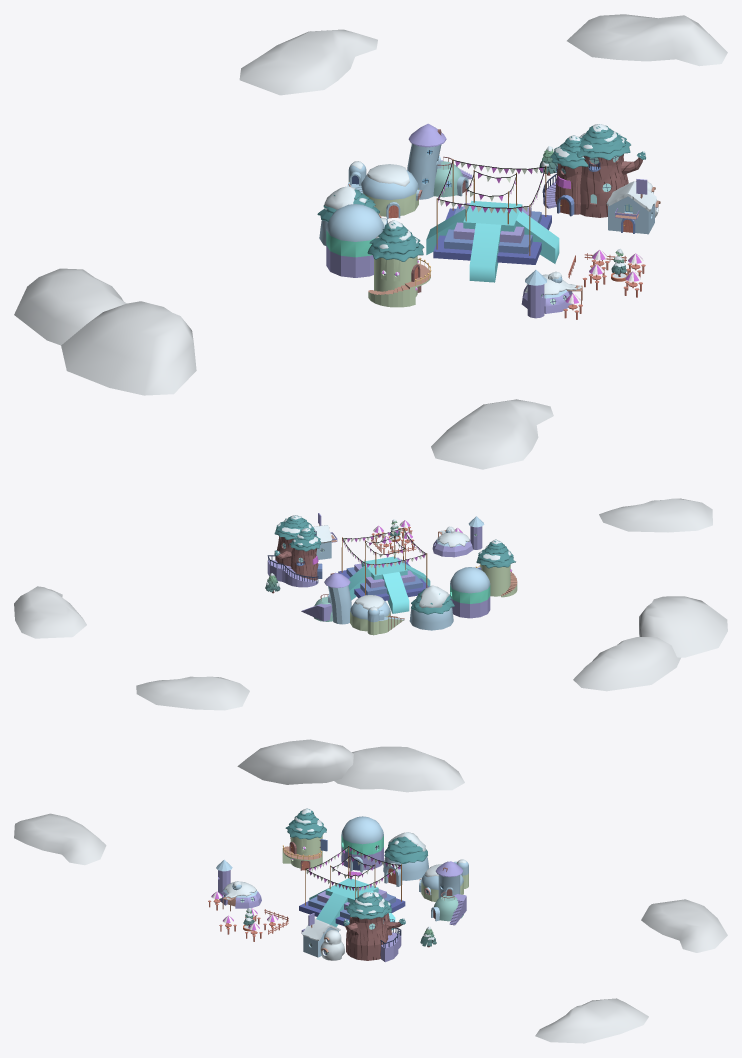
Rendered from Neighborhood_NothingHappeningHereSquare_03.fbx.
3 views of the same model, one above another, from view 1: azimuth 30°, elevation 25°; view 2: azimuth 150°, elevation 25°; view 3: azimuth 270°, elevation 25° (orthographic). The views are drawn at different scales.
Visible parts, largest first — view 1: SnowPatch3, pasted__pasted__Building_Stairs, pasted__polySurface119, SnowPatch6, SnowPatch5, SnowPatch2, SnowPatch4, pasted__polySurface40, pasted__polySurface49, pasted__pCube52, pasted__polySurface51, pasted__polySurface50 (+5 smaller); view 2: SnowPatch3, SnowPatch4, SnowPatch5, SnowPatch2, pasted__polySurface119, pasted__pasted__Building_Stairs, SnowPatch6, pasted__polySurface40, pasted__polySurface49, pasted__polySurface50, pasted__pSphere7, pasted__polySurface48 (+6 smaller); view 3: SnowPatch4, SnowPatch3, pasted__polySurface119, SnowPatch6, SnowPatch2, SnowPatch5, pasted__pasted__Building_Stairs, pasted__polySurface40, pasted__polySurface49, pasted__polySurface51, pasted__polySurface50, pasted__polySurface48 (+4 smaller).
Boxes of the visible parts, x1,y1,x2,y2 form: SnowPatch3: (61, 301, 196, 395); pasted__pasted__Building_Stairs: (426, 200, 559, 282); pasted__polySurface119: (542, 124, 645, 217); SnowPatch6: (567, 14, 727, 66); SnowPatch5: (239, 29, 377, 95); SnowPatch2: (431, 399, 553, 469); SnowPatch4: (14, 268, 126, 345); pasted__polySurface40: (326, 204, 384, 277); pasted__polySurface49: (407, 123, 472, 199); pasted__pCube52: (368, 256, 431, 307); pasted__polySurface51: (606, 179, 660, 234); pasted__polySurface50: (521, 270, 582, 318); SnowPatch3: (639, 596, 727, 657); SnowPatch4: (573, 637, 680, 691); SnowPatch5: (136, 676, 249, 710); SnowPatch2: (599, 498, 712, 532); pasted__polySurface119: (267, 515, 322, 587); pasted__pasted__Building_Stairs: (338, 556, 430, 613); SnowPatch6: (14, 586, 86, 638); pasted__polySurface40: (450, 567, 490, 618); pasted__polySurface49: (301, 572, 351, 624); pasted__polySurface50: (432, 516, 484, 557); pasted__pSphere7: (350, 600, 403, 635); pasted__polySurface48: (411, 585, 454, 614); SnowPatch4: (334, 746, 464, 792); SnowPatch3: (237, 739, 353, 784); pasted__polySurface119: (343, 892, 405, 962); SnowPatch6: (535, 998, 648, 1043); SnowPatch2: (14, 813, 106, 865); SnowPatch5: (641, 899, 727, 952); pasted__pasted__Building_Stairs: (299, 878, 405, 929); pasted__polySurface40: (341, 816, 383, 870); pasted__polySurface49: (434, 861, 466, 925); pasted__polySurface51: (301, 913, 344, 960); pasted__polySurface50: (216, 859, 261, 911); pasted__polySurface48: (384, 832, 427, 868).
Size of the model in its own units: 6034 by 654 by 6172.
